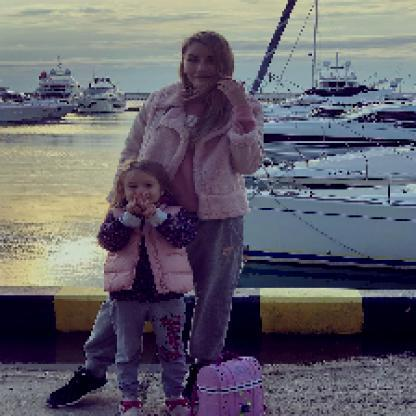child: (96, 161, 202, 416)
